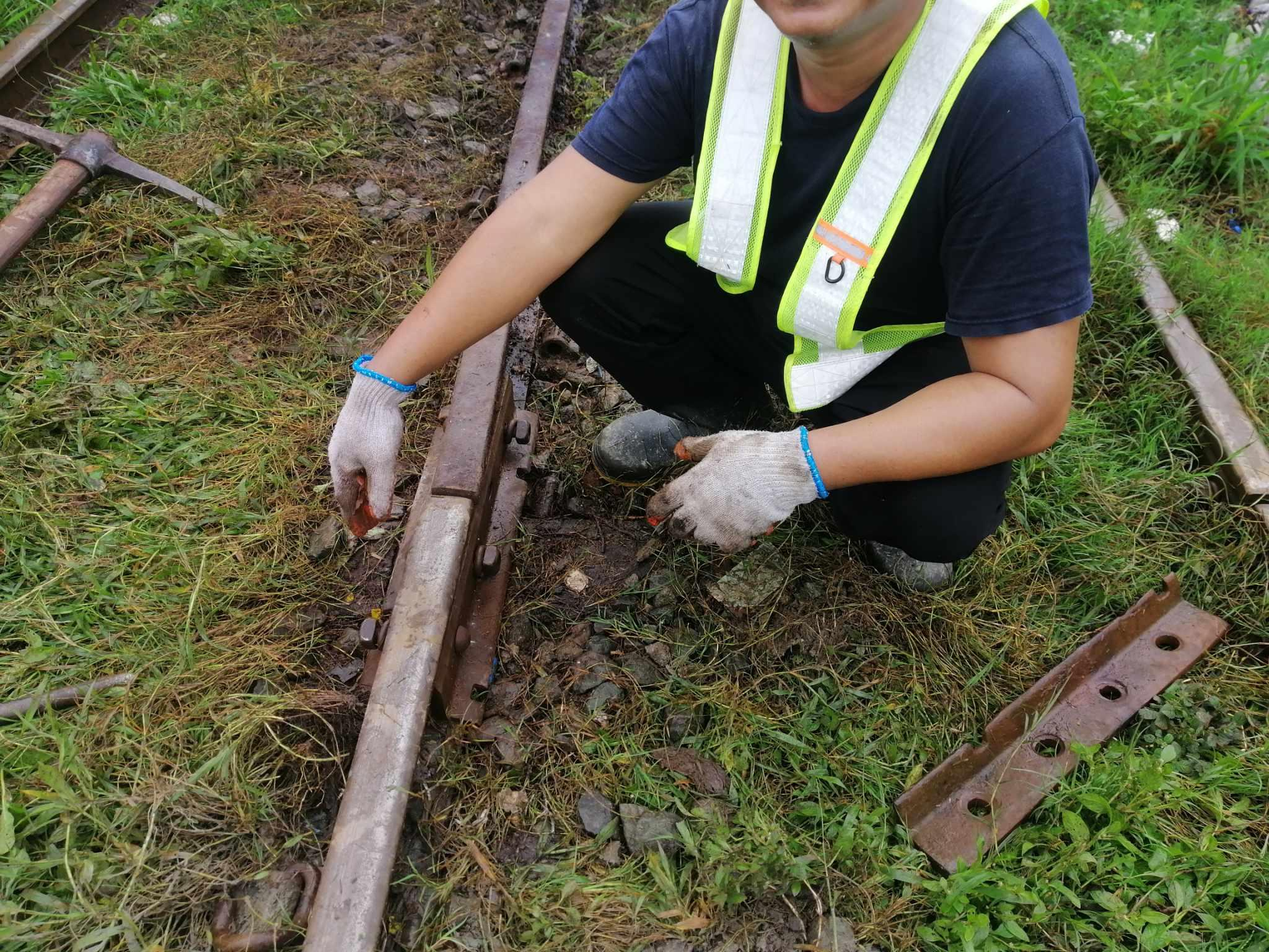railway-gap: (405, 448, 508, 544)
